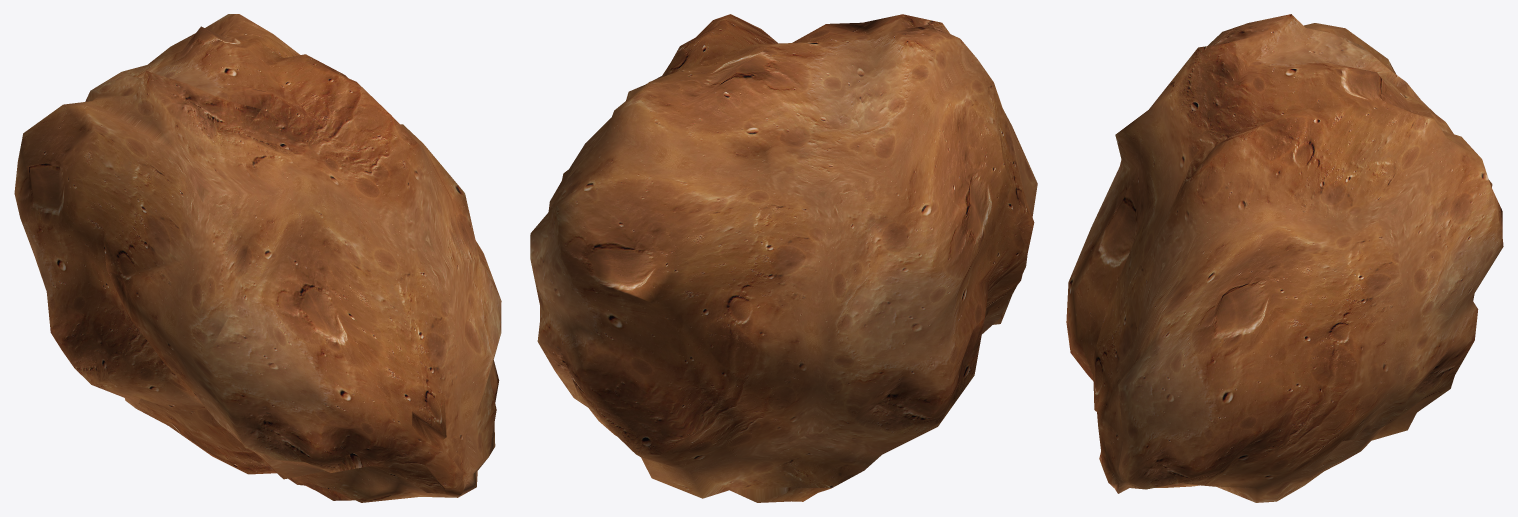
Rendered from Asteroid_06_L1.FBX.
3 views of the same model, side by side, from view 1: azimuth 30°, elevation 25°; view 2: azimuth 150°, elevation 25°; view 3: azimuth 270°, elevation 25° (orthographic). The views are drawn at different scales.
Visible parts, largest first — view 1: Asteroid; view 2: Asteroid; view 3: Asteroid.
Boxes of the visible parts, left/top/right/bottom form: Asteroid: left=14, top=14, right=501, bottom=502; Asteroid: left=530, top=14, right=1037, bottom=502; Asteroid: left=1066, top=14, right=1503, bottom=502.
Size of the model in its own units: 2.17 by 2.24 by 2.25.
